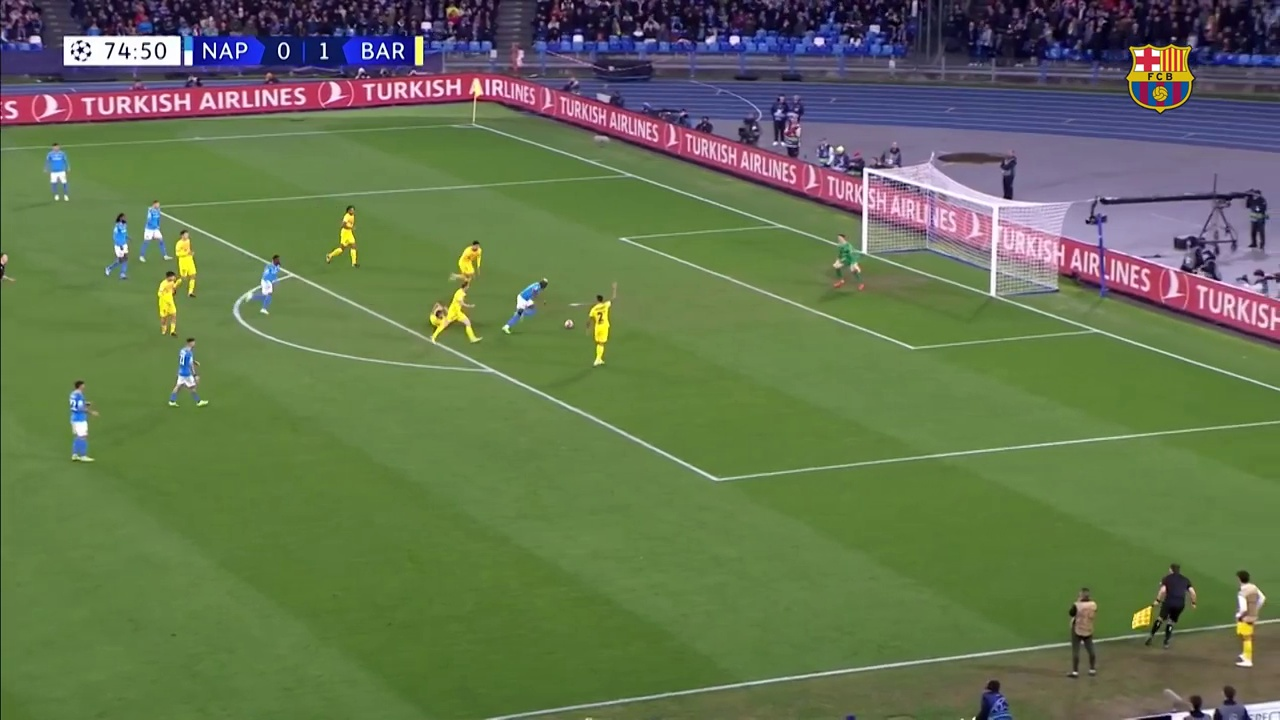ball: (584, 349, 609, 378)
